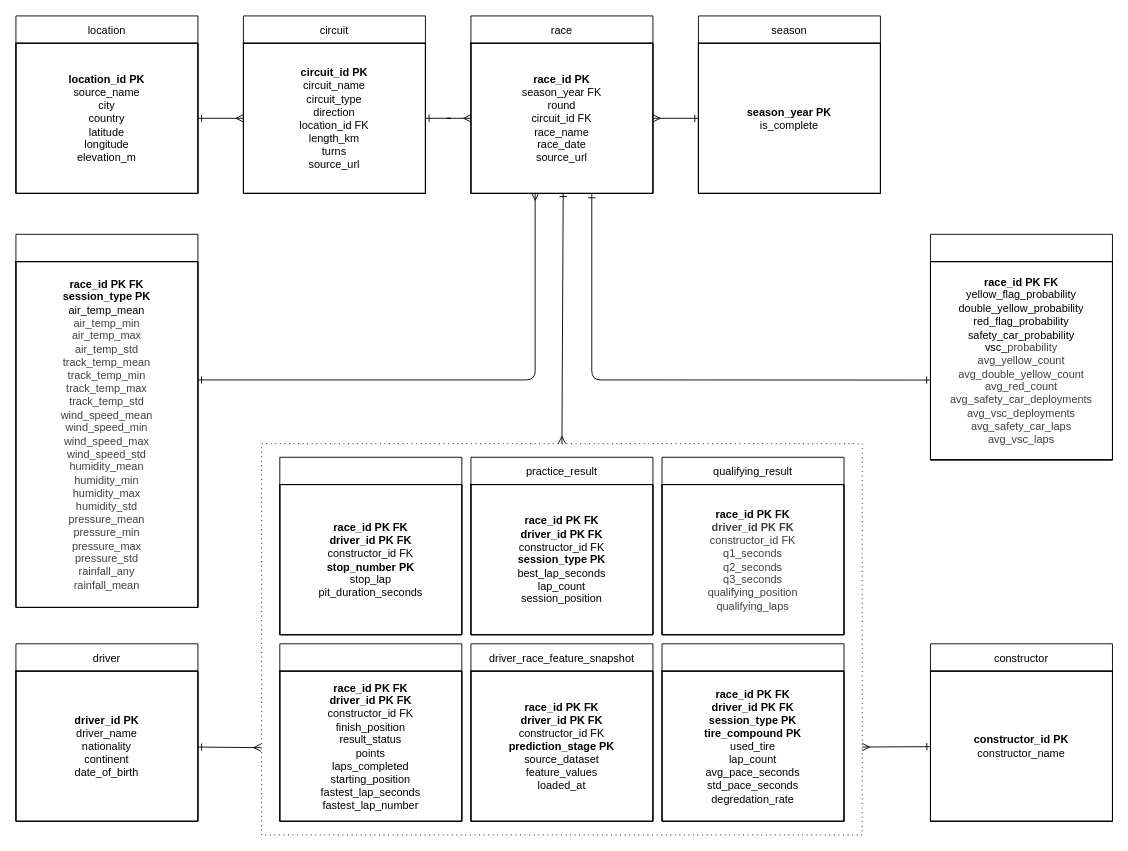
Some shapes in this 1128 by 851 pixel diagram are drawn without their labels. Each missing label, with the box of its shape:
driver_session_tire_performance: (661, 643, 844, 821)
pit_stop: (279, 456, 462, 635)
race_control_summary: (930, 233, 1112, 460)
race_result: (279, 643, 462, 821)
weather_summary: (15, 233, 198, 607)
